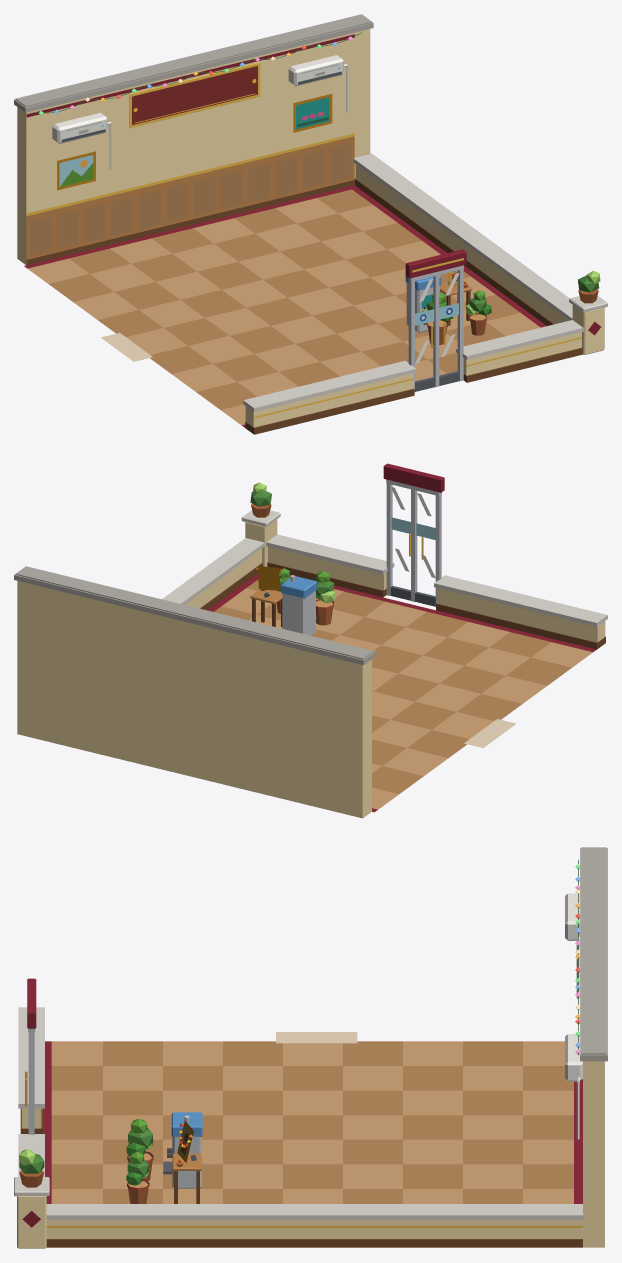
The model's file is family_hall.glb.
The picture shows the model from 3 angles, top to bottom: view 1: azimuth 30°, elevation 25°; view 2: azimuth 150°, elevation 25°; view 3: azimuth 270°, elevation 25°; orthographic projection. The views are drawn at different scales.
Parts seen in each view (by area): view 1: family_hall; view 2: family_hall; view 3: family_hall.
Boxes of the visible parts, bbox=[...] form: family_hall: bbox=[14, 14, 607, 434]; family_hall: bbox=[14, 463, 607, 818]; family_hall: bbox=[14, 847, 607, 1248].
Size of the model in its own units: 6.99 by 2.91 by 8.03.
2 materials, 1 textured.
